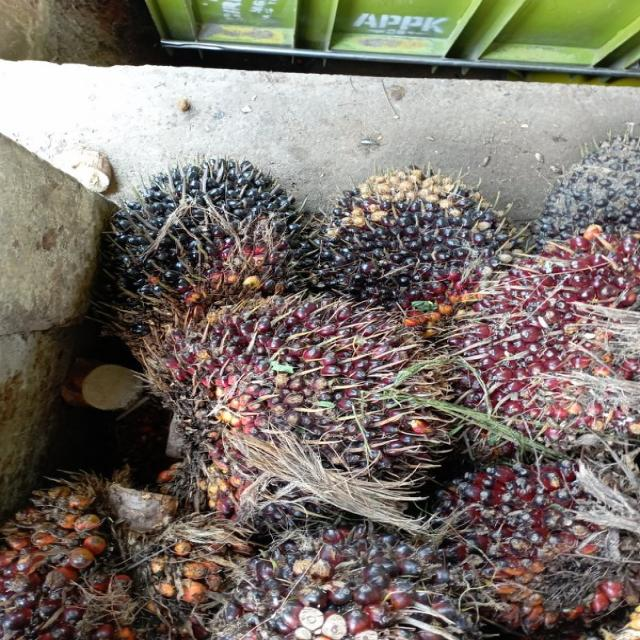fraksi 00: (105, 156, 326, 322), (308, 169, 513, 327)
fraksi 1: (150, 295, 440, 507), (458, 225, 640, 450), (421, 458, 640, 626)
